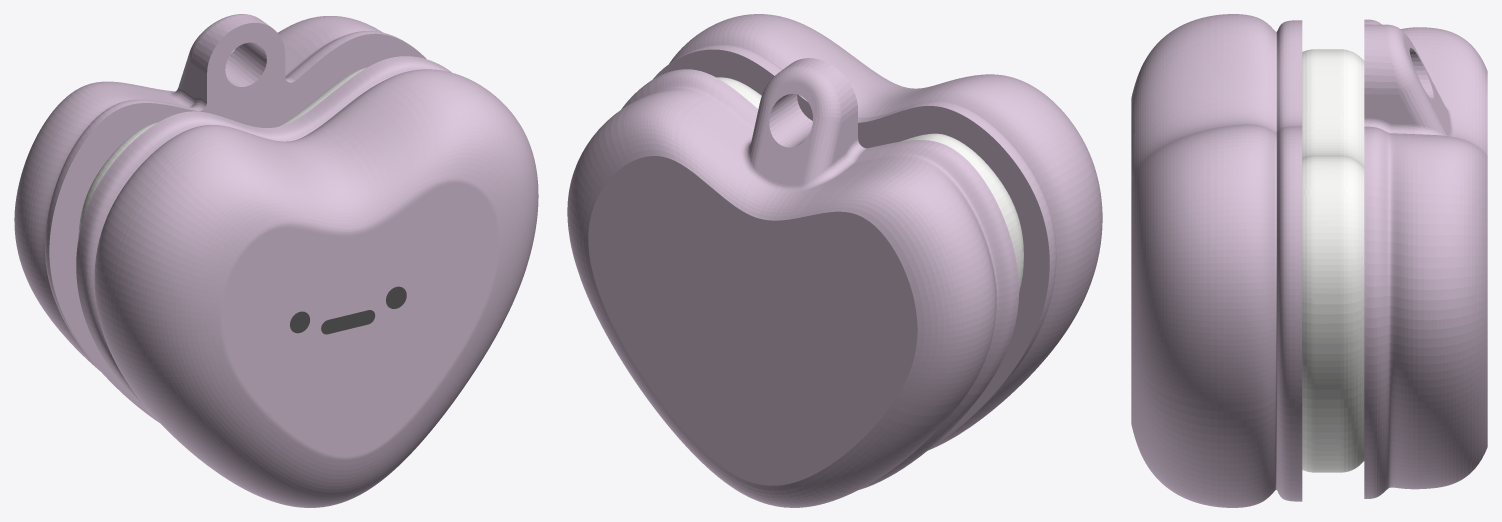
The model's file is clicky_heart_macaron_face1_customizable.glb.
The picture shows the model from 3 angles, left to right: view 1: azimuth 30°, elevation 25°; view 2: azimuth 150°, elevation 25°; view 3: azimuth 270°, elevation 25°; orthographic projection. The views are drawn at different scales.
Parts seen in each view (by area): view 1: Macaron_Shell_Customizable, Macaron_Face_Customizable, Macaron_Cream_Customizable; view 2: Macaron_Shell_Customizable, Macaron_Cream_Customizable; view 3: Macaron_Shell_Customizable, Macaron_Cream_Customizable.
Part boxes in pixels (box(x1,y1,x2,y2)): Macaron_Shell_Customizable: box(14, 14, 538, 507); Macaron_Face_Customizable: box(290, 286, 406, 334); Macaron_Cream_Customizable: box(78, 67, 366, 238); Macaron_Shell_Customizable: box(567, 14, 1102, 507); Macaron_Cream_Customizable: box(716, 77, 1023, 292); Macaron_Shell_Customizable: box(1131, 14, 1487, 507); Macaron_Cream_Customizable: box(1302, 49, 1364, 472).
Size of the model in its own units: 45.42 by 44.34 by 30.71.
